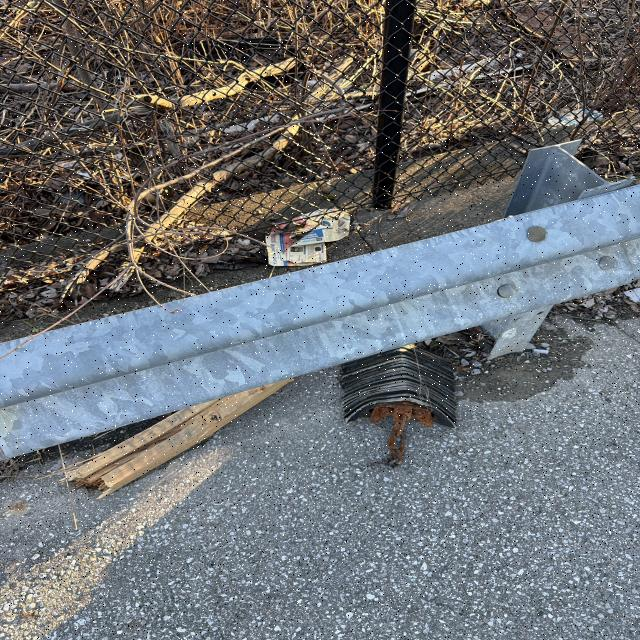Guard rail: (32, 170, 632, 430)
